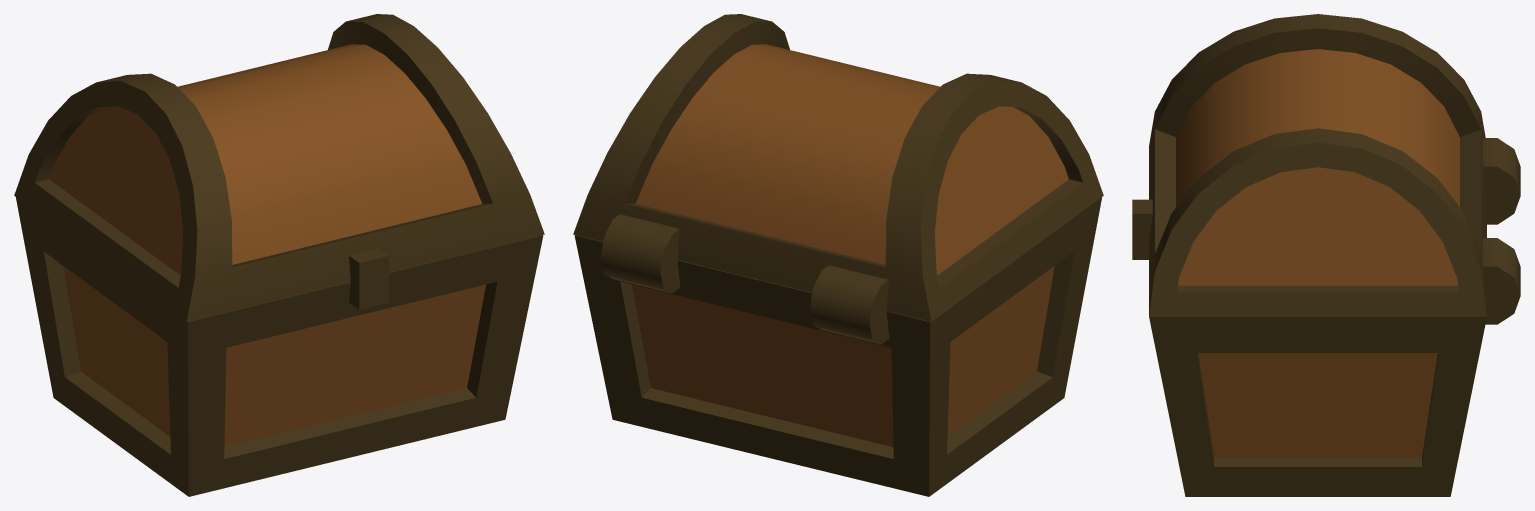
File: Chest.fbx
3 renders of one model, left to right at view 1: azimuth 30°, elevation 25°; view 2: azimuth 150°, elevation 25°; view 3: azimuth 270°, elevation 25°, orthographic. The views are drawn at different scales.
Visible parts, largest first — view 1: Cylinder, Cube; view 2: Cylinder, Cube; view 3: Cylinder, Cube.
Part boxes in pixels (x1=…): Cylinder: x1=14, y1=14, x2=544, y2=321; Cube: x1=16, y1=197, x2=543, y2=496; Cylinder: x1=573, y1=14, x2=1103, y2=344; Cube: x1=574, y1=197, x2=1101, y2=496; Cylinder: x1=1132, y1=14, x2=1520, y2=324; Cube: x1=1149, y1=317, x2=1486, y2=496.
Bounding box in the file's own units: 240 × 224 × 230.
